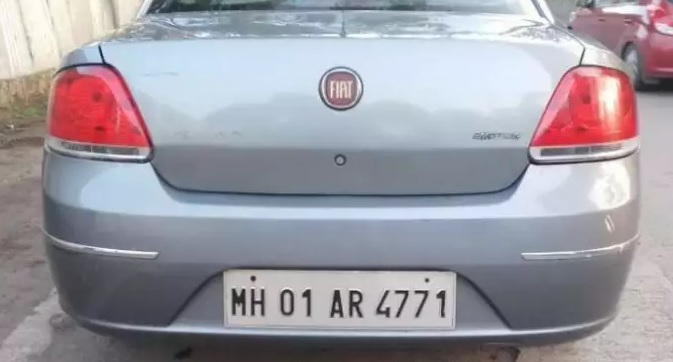licenseplate: (222, 263, 458, 336)
